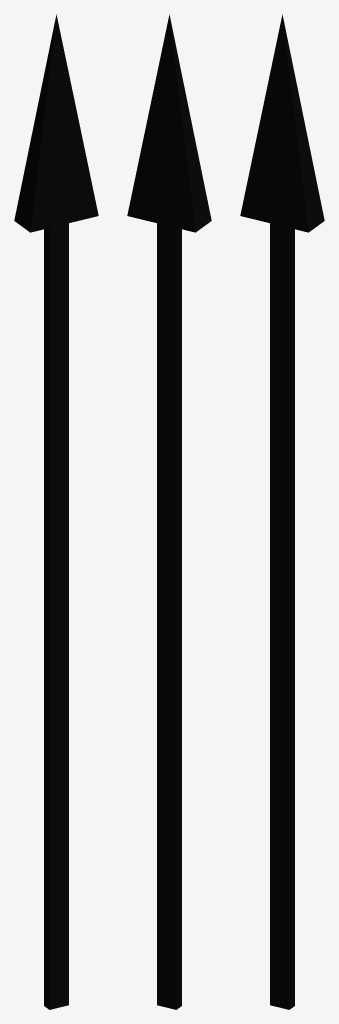
The model's file is clock_hand_hours.obj.
3 views of the same model, side by side, from view 1: azimuth 30°, elevation 25°; view 2: azimuth 150°, elevation 25°; view 3: azimuth 330°, elevation 25° (orthographic).
Parts seen in each view (by area): view 1: clock_hand.001; view 2: clock_hand.001; view 3: clock_hand.001.
Boxes of the visible parts, x1=… form: clock_hand.001: x1=14, y1=14, x2=98, y2=1009; clock_hand.001: x1=127, y1=14, x2=211, y2=1009; clock_hand.001: x1=240, y1=14, x2=324, y2=1009.
Bounding box in the file's own units: 0.0498 × 0.6897 × 0.0203.
Materials: 1 (1 with a texture image).
